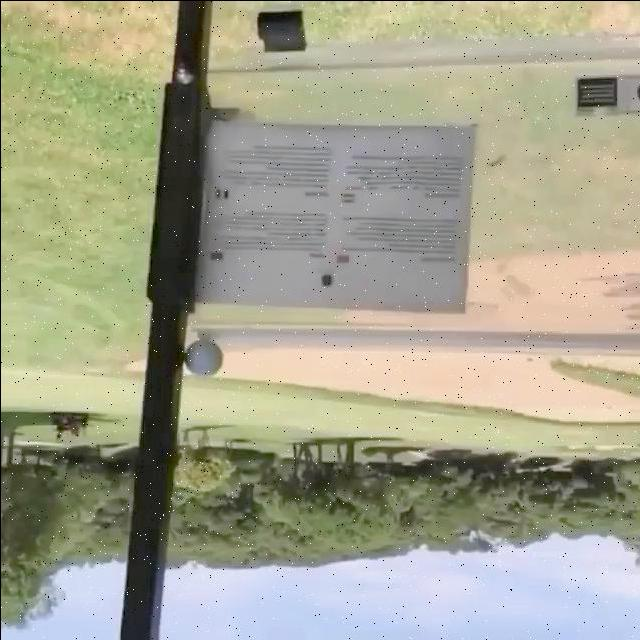GolfBall: (184, 340, 222, 375)
